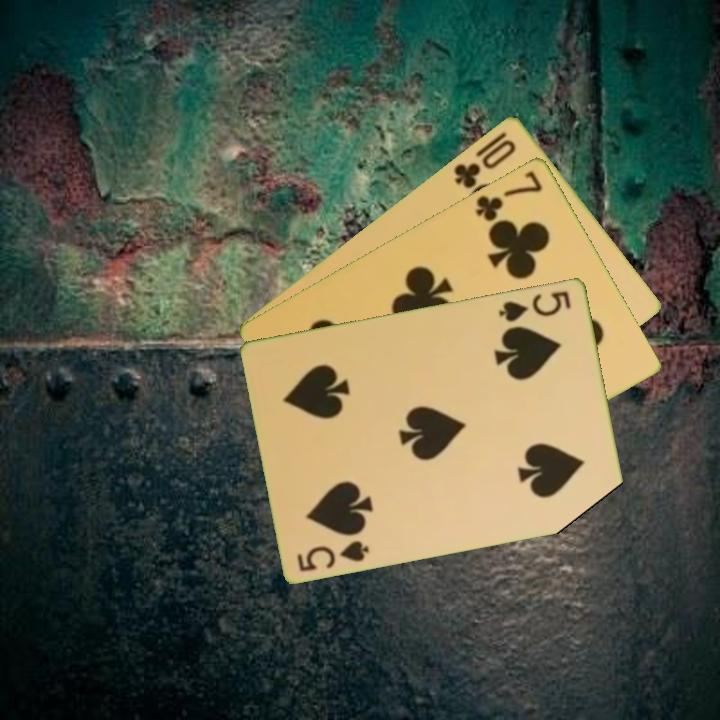10c: (450, 135, 519, 191)
5s: (495, 286, 574, 325), (294, 536, 373, 574)
7c: (472, 167, 546, 224)
